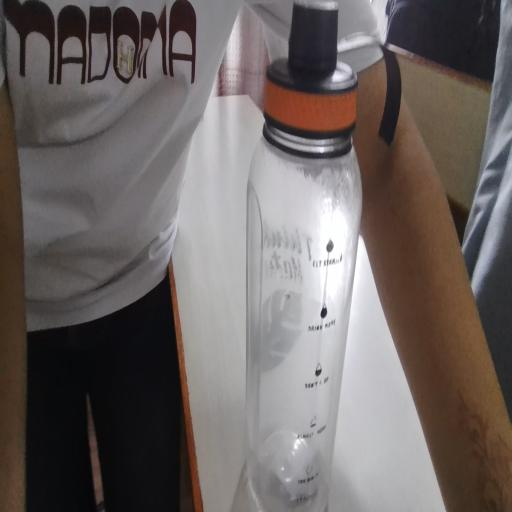Bottle: (261, 19, 353, 438)
